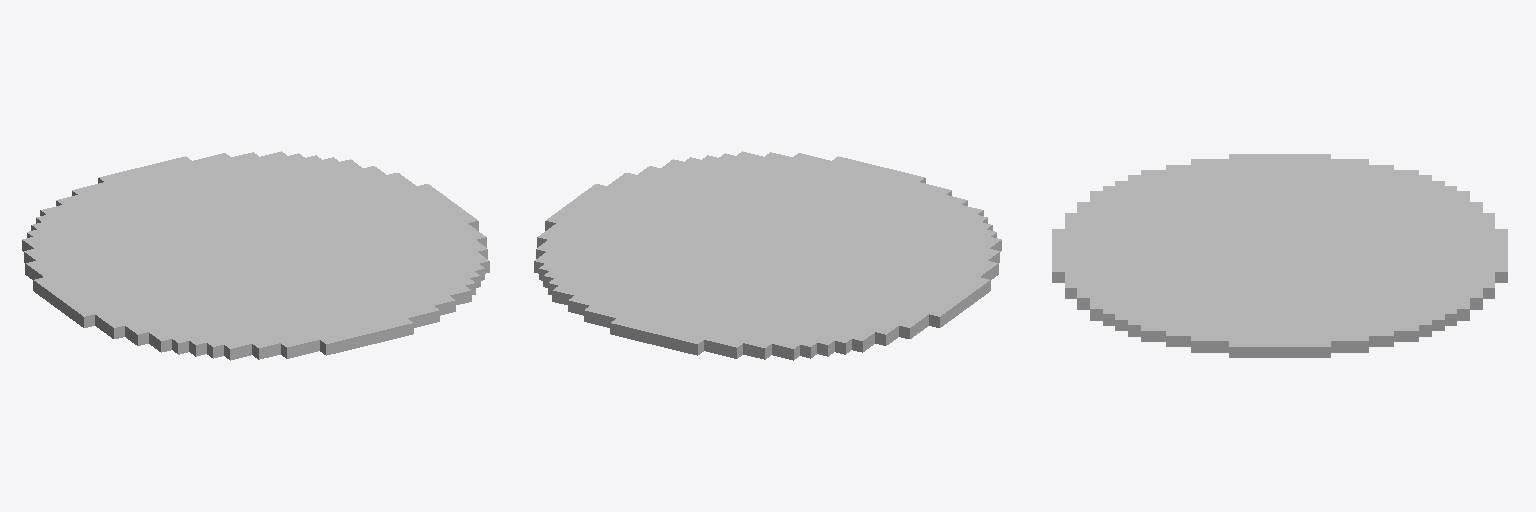
Rendered from SlowTrapInactive.obj.
3 views of the same model, side by side, from view 1: azimuth 30°, elevation 25°; view 2: azimuth 150°, elevation 25°; view 3: azimuth 270°, elevation 25° (orthographic).
Parts seen in each view (by area): view 1: Untitled; view 2: Untitled; view 3: Untitled.
Boxes of the visible parts, <box> form: Untitled: <box>22,151,489,360</box>; Untitled: <box>534,151,1001,360</box>; Untitled: <box>1052,154,1507,357</box>.
Size of the model in its own units: 3.6 by 0.1 by 3.6.